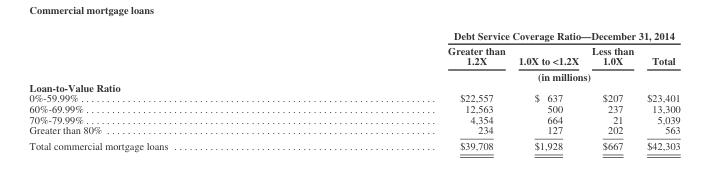table: (28, 29, 679, 151)
table column: (28, 29, 307, 151), (307, 29, 511, 151), (511, 29, 584, 151), (584, 29, 639, 151), (639, 29, 679, 151)
table column header: (28, 29, 679, 81)
table projected row header: (28, 81, 679, 92)
table row: (28, 42, 679, 68), (28, 137, 679, 151), (28, 29, 679, 42), (28, 68, 679, 81), (28, 124, 679, 137), (28, 81, 679, 92), (28, 92, 679, 103), (28, 113, 679, 124), (28, 103, 679, 113)
table spanning cell: (307, 29, 679, 42), (307, 68, 679, 81)
